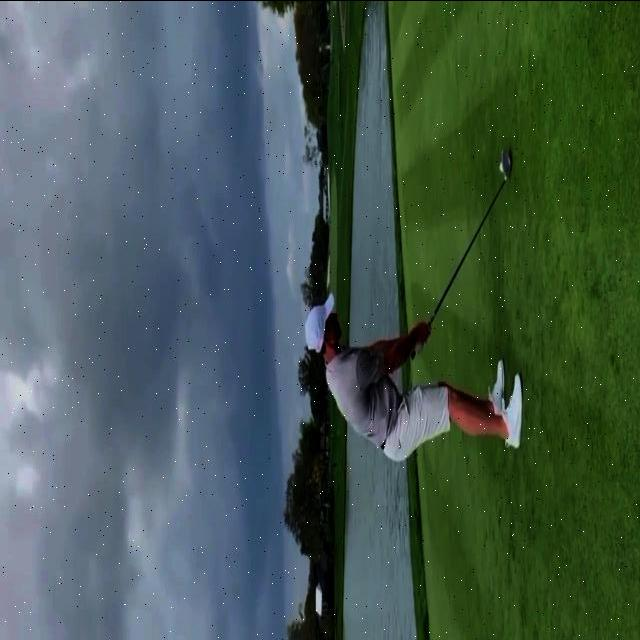ClubHandle: (409, 148, 511, 361)
ClubHead: (502, 147, 512, 178)
GolfBall: (500, 161, 504, 171)
